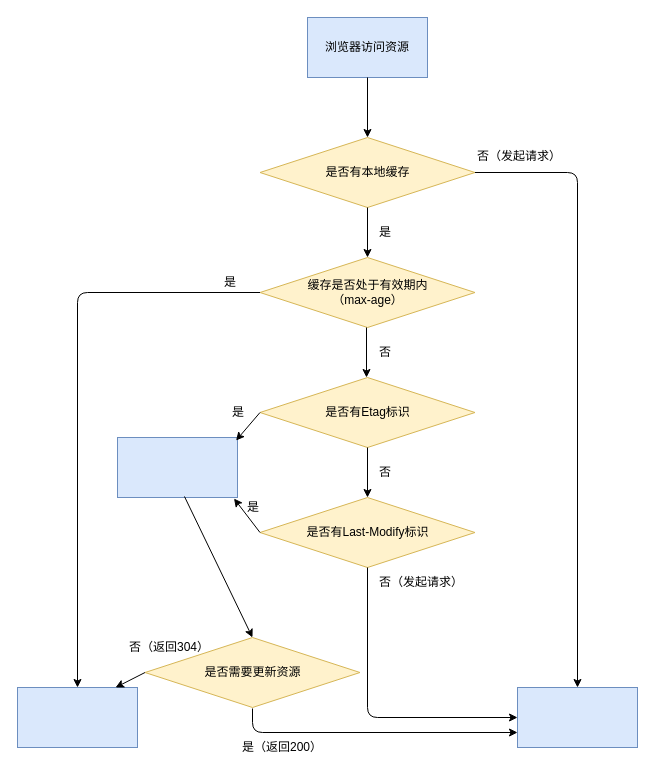
Some shapes in this 655 by 775 pixel diagram are drawn without their labels. Each missing label, with the centre of its shape:
"从本地缓存读取" belongs at [77,717].
"服务端返回新的资源" belongs at [577,717].
"询问服务端 （协商缓存）" belongs at [177,467].
